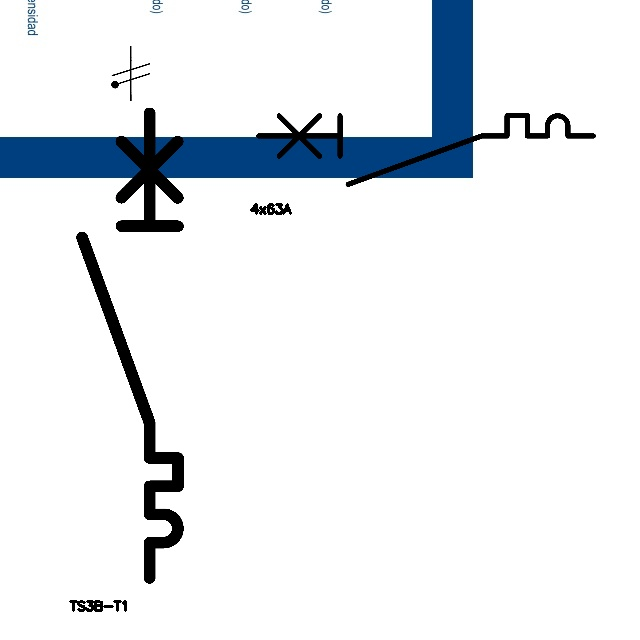interruptor_termomagnetico: (70, 101, 190, 590), (250, 107, 602, 193)
